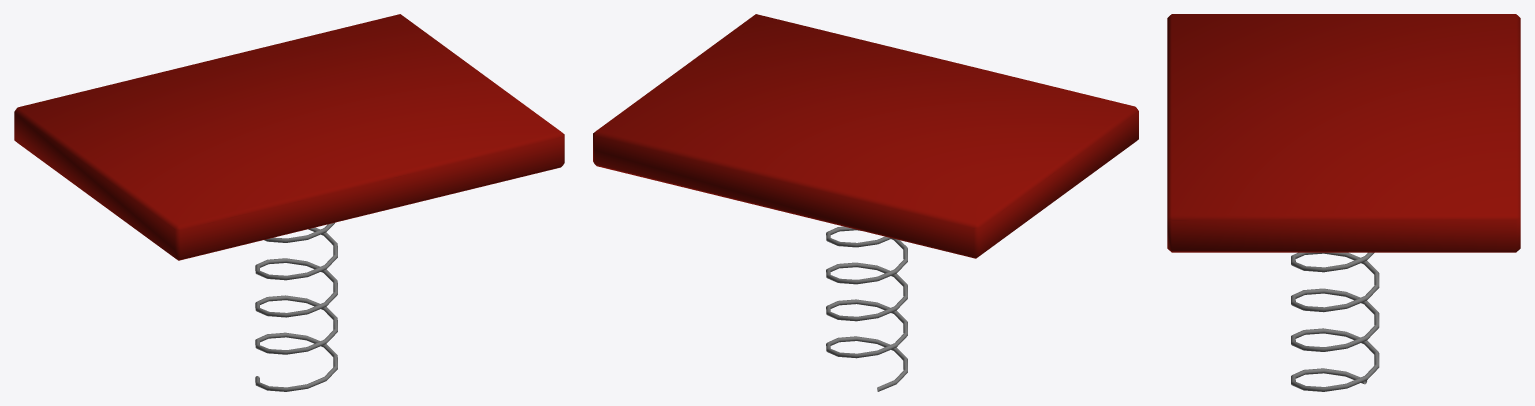
Rendered from PlataformSpring.fbx.
The picture shows the model from 3 angles, left to right: view 1: azimuth 30°, elevation 25°; view 2: azimuth 150°, elevation 25°; view 3: azimuth 270°, elevation 25°; orthographic projection. The views are drawn at different scales.
Parts seen in each view (by area): view 1: Spring_Plataform.001; view 2: Spring_Plataform.001; view 3: Spring_Plataform.001.
Boxes of the visible parts, bbox=[...] form: Spring_Plataform.001: bbox=[14, 14, 564, 391]; Spring_Plataform.001: bbox=[593, 14, 1138, 391]; Spring_Plataform.001: bbox=[1167, 14, 1520, 391].
Size of the model in its own units: 139 by 89.53 by 102.
